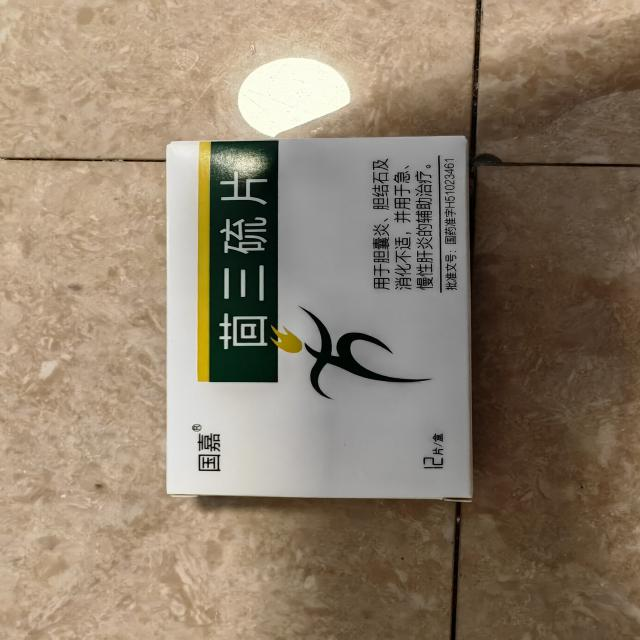box: (155, 132, 489, 509)
